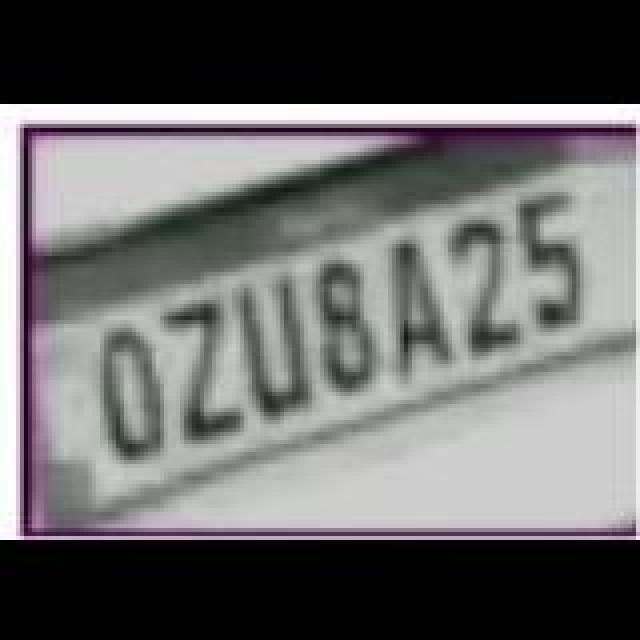2: (450, 216, 526, 352)
5: (518, 188, 586, 324)
8: (316, 256, 380, 392)
A: (386, 238, 454, 378)
O: (96, 324, 168, 460)
U: (236, 274, 316, 414)
Z: (166, 296, 250, 440)
